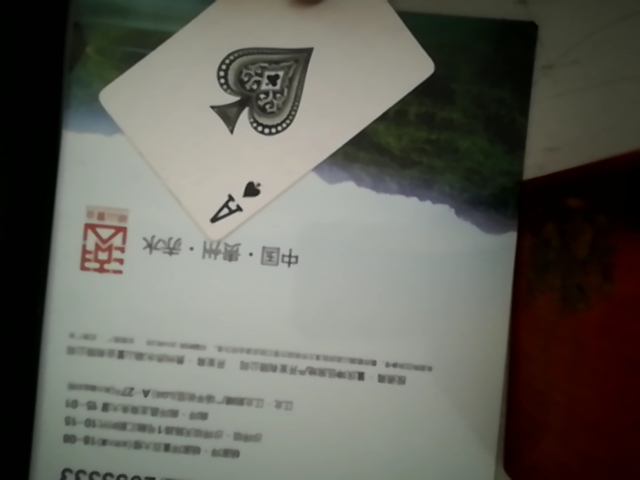ht a: (86, 3, 447, 239)
